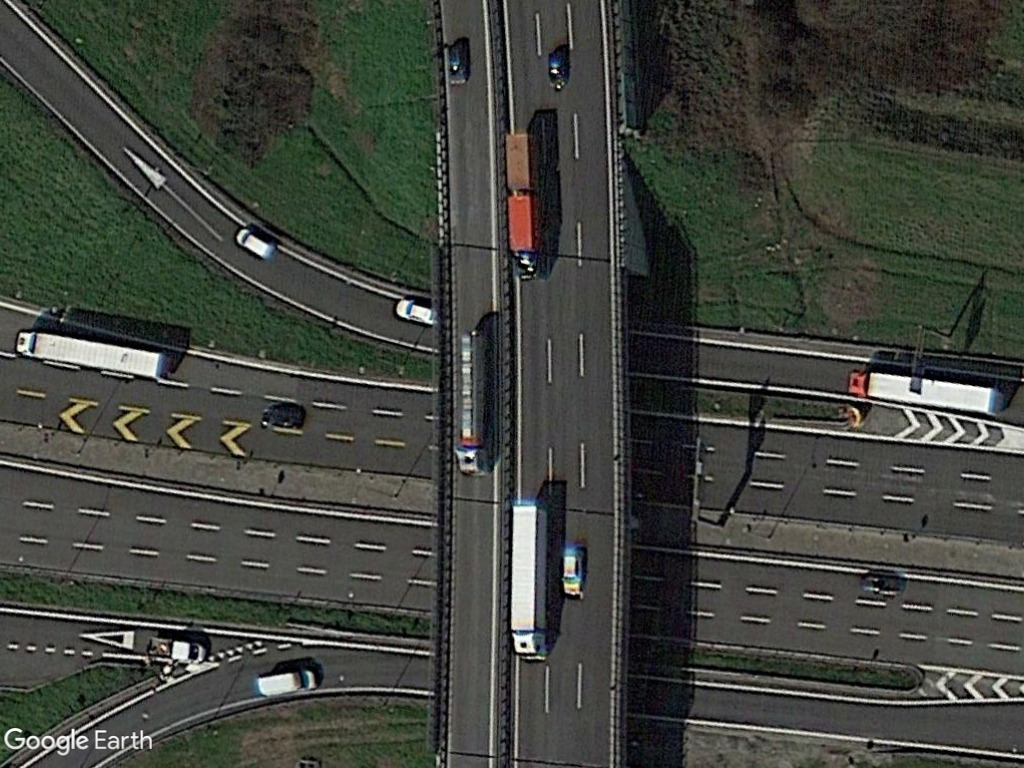car: (392, 296, 438, 327)
longvehicle: (10, 328, 168, 384), (846, 367, 1006, 420), (506, 499, 556, 664), (454, 326, 498, 477)
other: (144, 634, 209, 668), (444, 42, 472, 88), (544, 50, 573, 91)
truck: (504, 188, 545, 282)
van: (251, 666, 317, 703), (234, 224, 275, 261)
